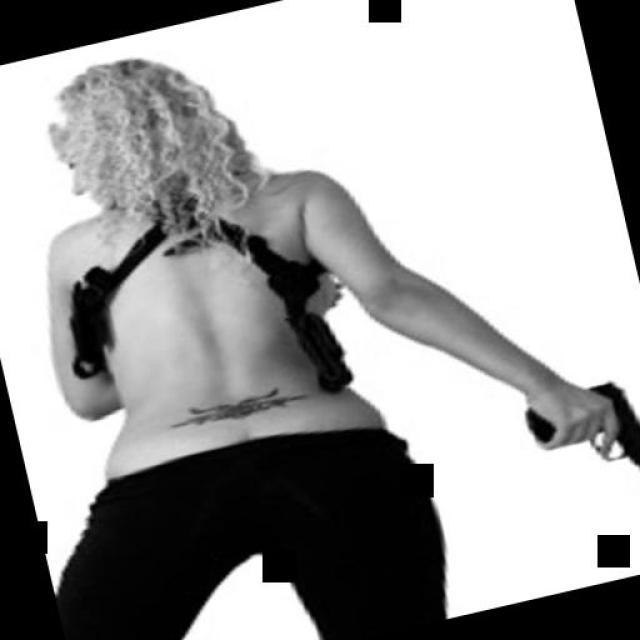gun: (514, 371, 640, 505)
